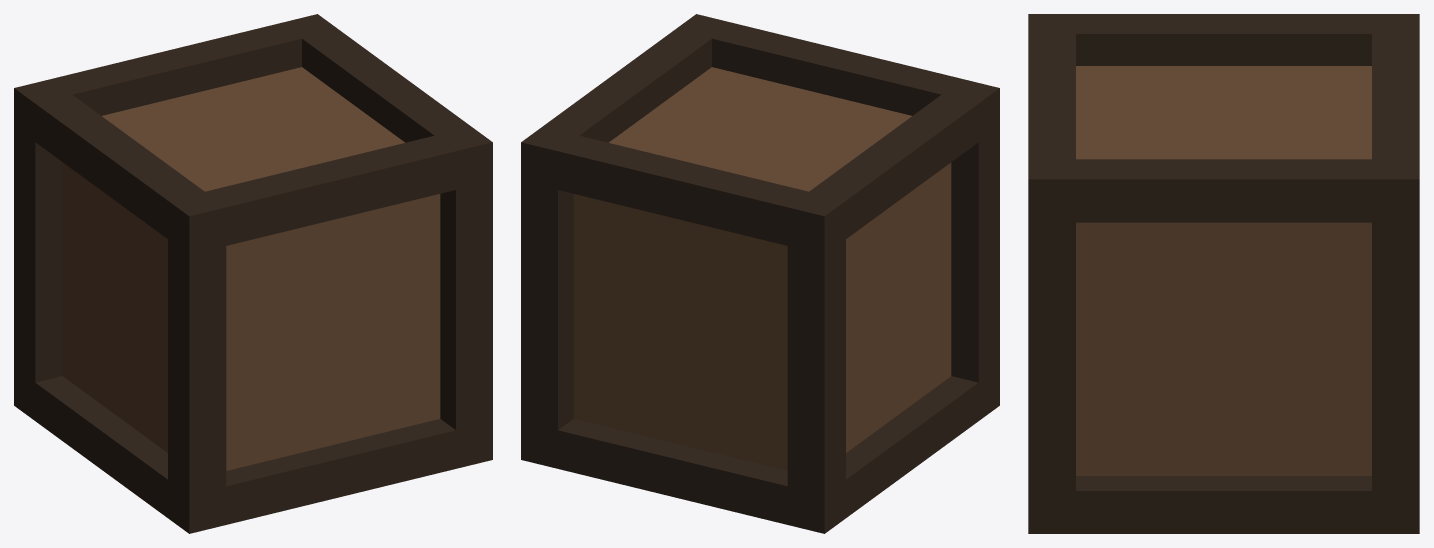
The model's file is Kiste.fbx.
3 views of the same model, side by side, from view 1: azimuth 30°, elevation 25°; view 2: azimuth 150°, elevation 25°; view 3: azimuth 270°, elevation 25° (orthographic). The views are drawn at different scales.
Parts seen in each view (by area): view 1: Cube.005; view 2: Cube.005; view 3: Cube.005.
Boxes of the visible parts, x1=… form: Cube.005: x1=14, y1=14, x2=492, y2=533; Cube.005: x1=521, y1=14, x2=999, y2=533; Cube.005: x1=1028, y1=14, x2=1419, y2=533.
Bounding box in the file's own units: 200 × 200 × 200.
